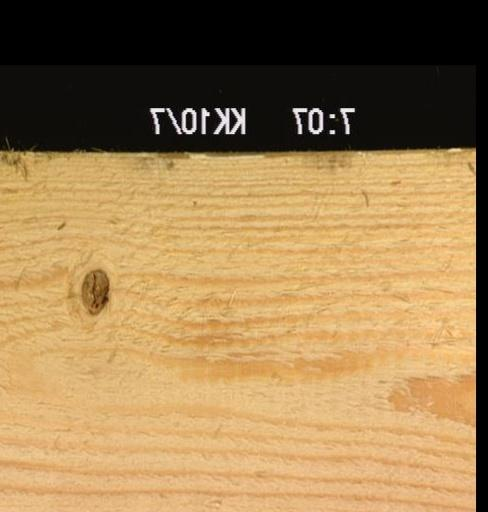wave: (97, 149, 287, 162)
